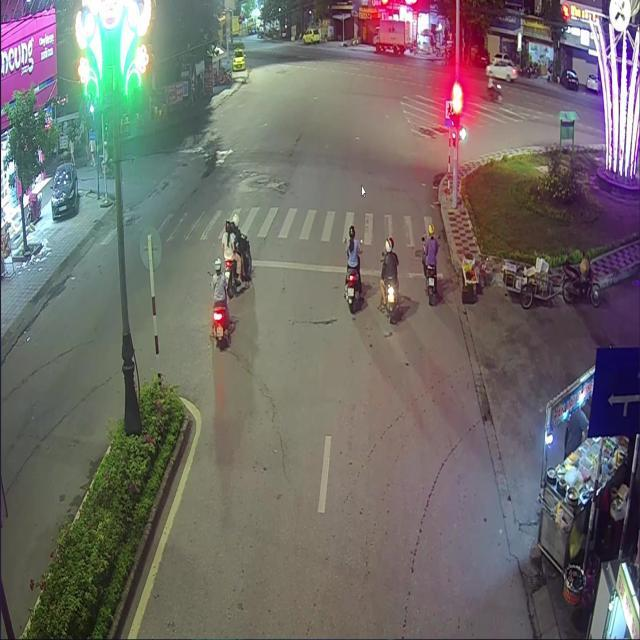motobike: (225, 229, 250, 296), (210, 303, 231, 349), (383, 275, 399, 326), (343, 270, 362, 311), (424, 265, 436, 305)
red_light: (452, 97, 459, 127)
stop_line: (231, 258, 442, 280)
